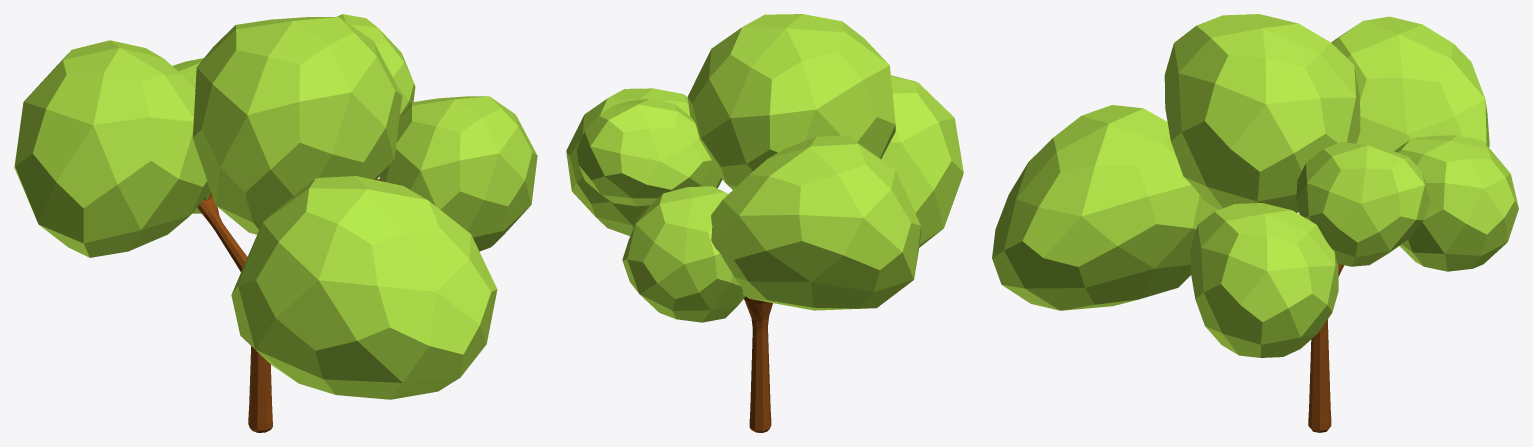
File: Tree2.fbx
3 renders of one model, left to right at view 1: azimuth 30°, elevation 25°; view 2: azimuth 150°, elevation 25°; view 3: azimuth 270°, elevation 25°, orthographic. The views are drawn at different scales.
Parts seen in each view (by area): view 1: Leaves, Branch; view 2: Leaves, Branch; view 3: Leaves, Branch.
Boxes of the visible parts, x1,y1,x2,y2 form: Leaves: (14, 14, 537, 399); Branch: (197, 179, 379, 432); Leaves: (566, 14, 963, 322); Branch: (744, 297, 772, 432); Leaves: (992, 14, 1518, 357); Branch: (1308, 264, 1343, 432).
Size of the model in its own units: 839 by 778 by 922.
